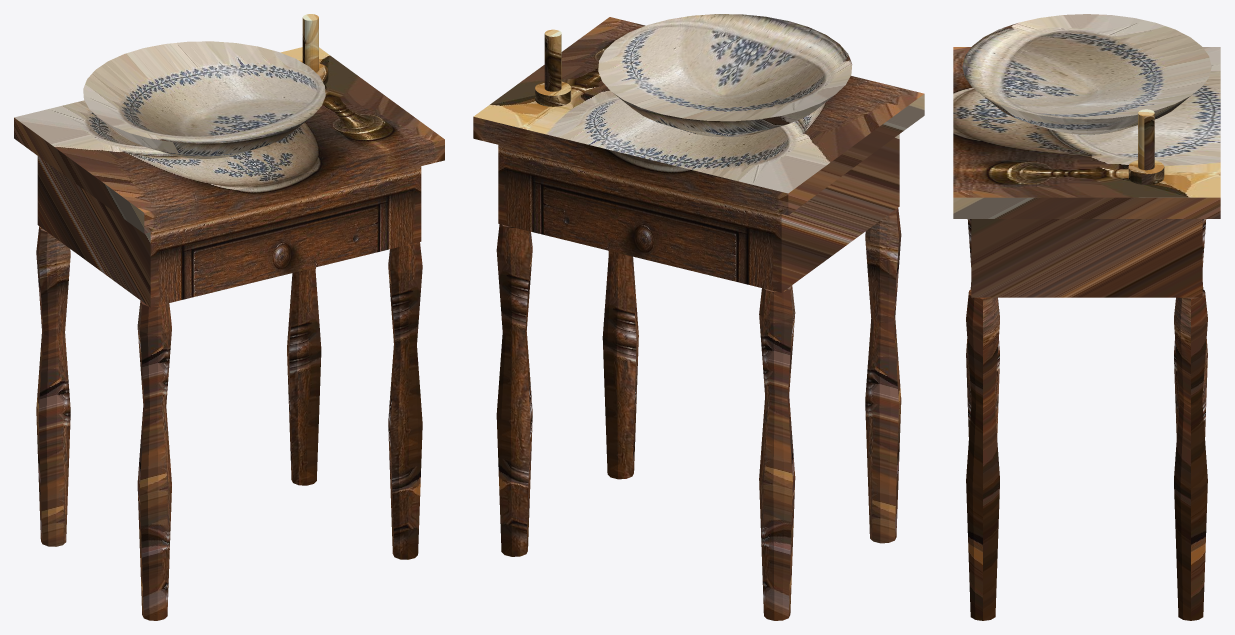
The model's file is v3-bedroom-washstand.glb.
The picture shows the model from 3 angles, left to right: view 1: azimuth 30°, elevation 25°; view 2: azimuth 150°, elevation 25°; view 3: azimuth 270°, elevation 25°; orthographic projection. The views are drawn at different scales.
Visible parts, largest first — view 1: v3-bedroom-washstand; view 2: v3-bedroom-washstand; view 3: v3-bedroom-washstand.
Boxes of the visible parts, x1=… form: v3-bedroom-washstand: x1=14, y1=14, x2=444, y2=620; v3-bedroom-washstand: x1=473, y1=14, x2=924, y2=620; v3-bedroom-washstand: x1=953, y1=14, x2=1220, y2=620.
Bounding box in the file's own units: 0.6 × 0.92 × 0.45.
1 material, 1 textured.
